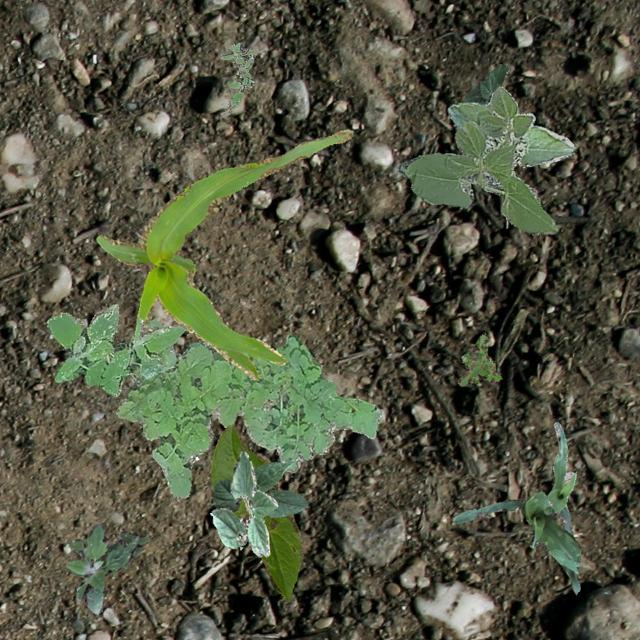crop: (96, 130, 352, 380), (396, 86, 574, 232), (210, 423, 302, 598), (452, 492, 580, 594), (210, 450, 276, 556), (212, 456, 306, 516), (546, 422, 574, 534), (462, 64, 508, 104)
weed: (114, 318, 380, 501), (46, 304, 184, 396), (64, 522, 148, 612), (218, 42, 256, 116), (456, 334, 501, 384)
